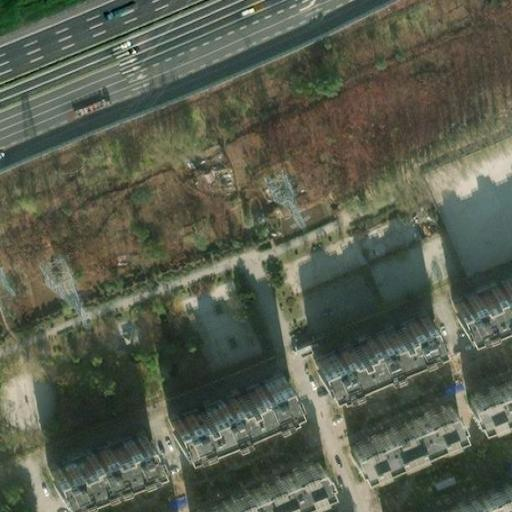building: (165, 366, 288, 442), (305, 306, 427, 382), (193, 453, 328, 512), (340, 392, 449, 459), (47, 426, 146, 491), (399, 465, 512, 512), (447, 269, 512, 328), (462, 366, 512, 412)
